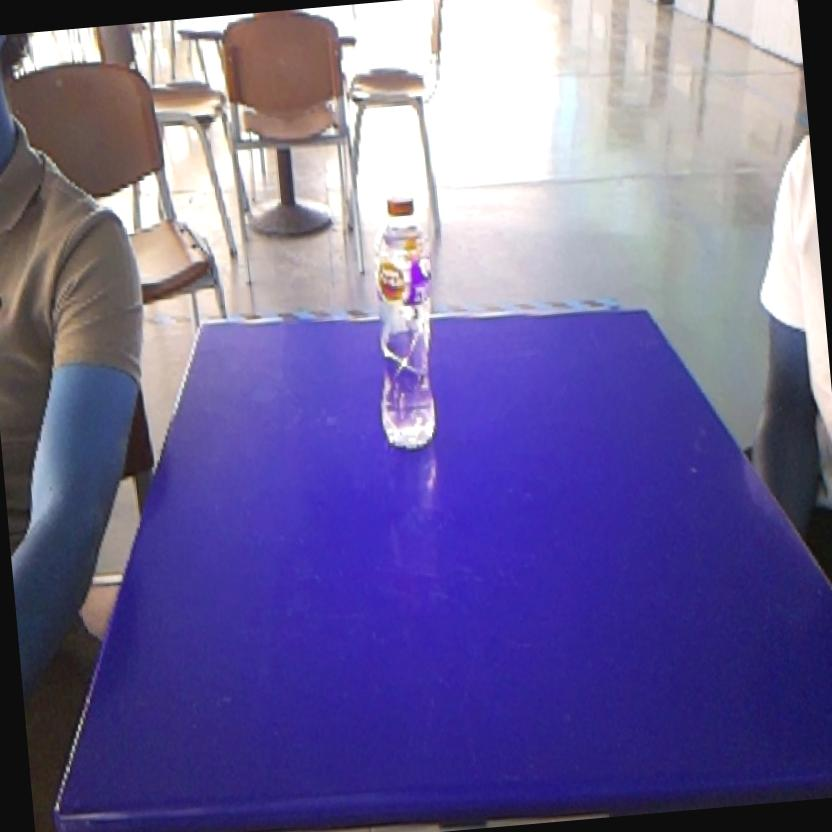good: (356, 183, 456, 463)
